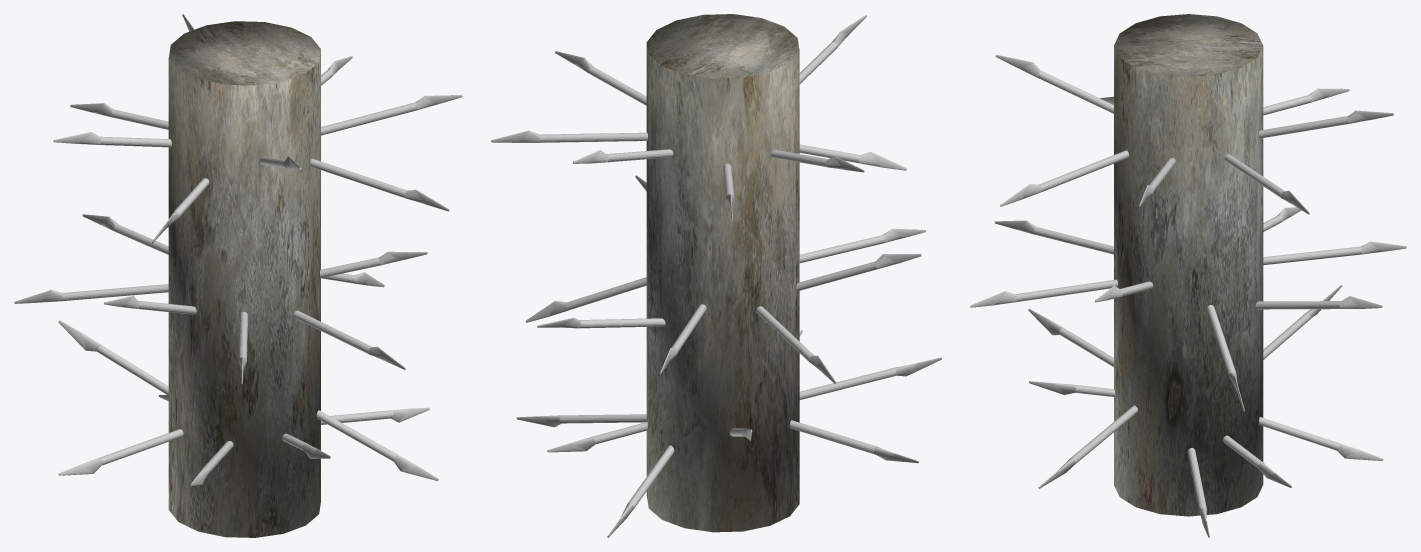
Rendered from baychong2.fbx.
3 views of the same model, side by side, from view 1: azimuth 30°, elevation 25°; view 2: azimuth 150°, elevation 25°; view 3: azimuth 270°, elevation 25° (orthographic). The views are drawn at different scales.
Parts seen in each view (by area): view 1: BayChong; view 2: BayChong; view 3: BayChong.
Part boxes in pixels (x1,y1,x2,y2): BayChong: [14, 14, 462, 537]; BayChong: [491, 14, 941, 537]; BayChong: [970, 14, 1406, 537].
Size of the model in its own units: 100 by 113 by 101.
